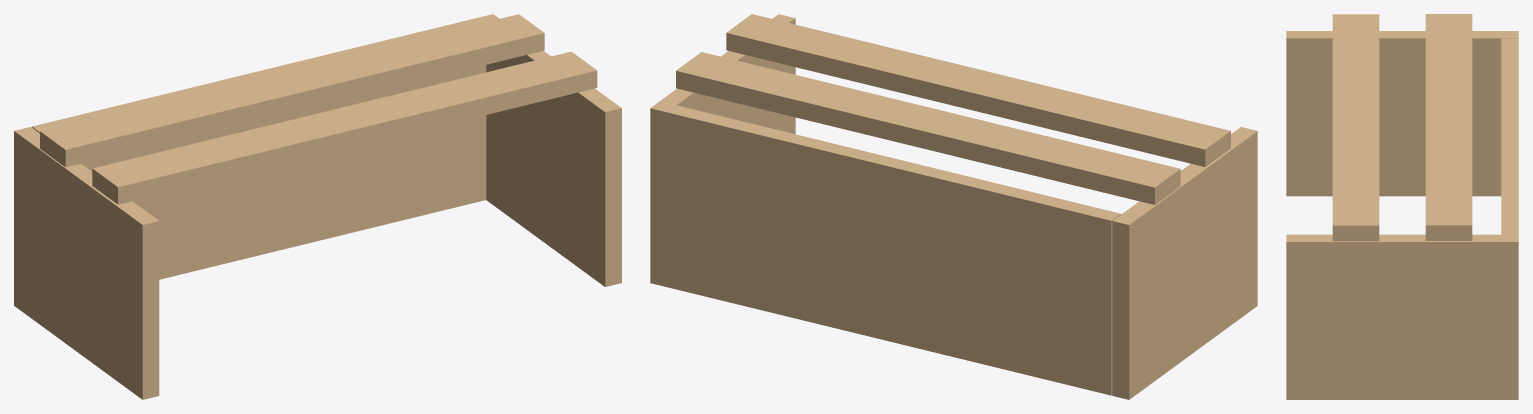
Rendered from tinker.obj.
3 views of the same model, side by side, from view 1: azimuth 30°, elevation 25°; view 2: azimuth 150°, elevation 25°; view 3: azimuth 270°, elevation 25° (orthographic). The views are drawn at different scales.
Visible parts, largest first — view 1: obj_0; view 2: obj_0; view 3: obj_0.
Part boxes in pixels (<box>): obj_0: <box>14,14,621,399</box>; obj_0: <box>650,14,1257,399</box>; obj_0: <box>1286,14,1518,399</box>.
Bounding box in the file's own units: 431 × 166 × 200.
